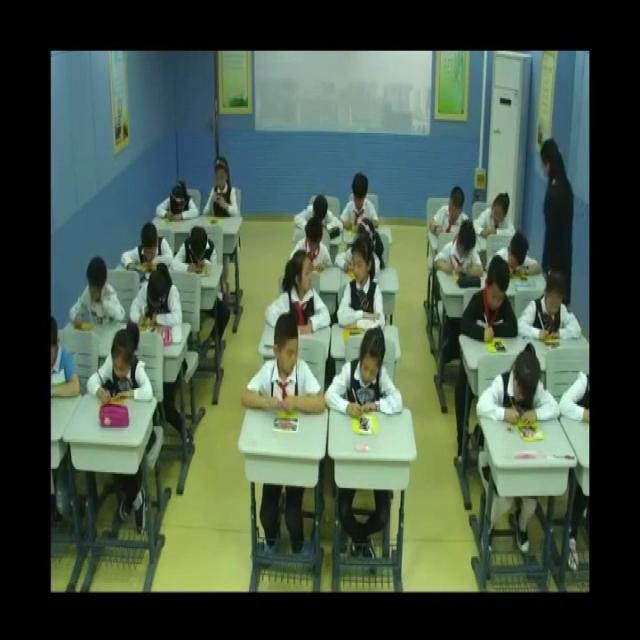distracted: (248, 322, 322, 418), (267, 250, 333, 334), (338, 245, 386, 332)
focused: (475, 346, 558, 430), (328, 333, 401, 419), (89, 326, 156, 406), (515, 267, 579, 343), (462, 263, 517, 348), (128, 264, 182, 341), (75, 259, 125, 328), (429, 226, 482, 282), (496, 232, 543, 286), (290, 215, 334, 272), (341, 172, 383, 231), (174, 221, 223, 271), (469, 192, 522, 238), (294, 200, 344, 240), (123, 229, 170, 270), (157, 180, 199, 224), (430, 190, 469, 236)
using_phone: (199, 158, 241, 224)
